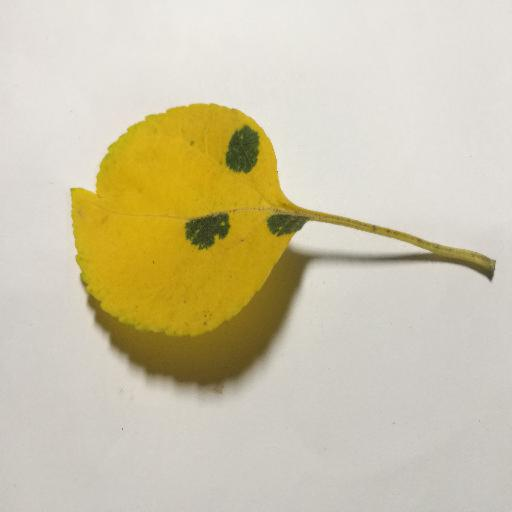Brown_Spot: (222, 126, 257, 172), (178, 217, 223, 245), (267, 216, 306, 232)
